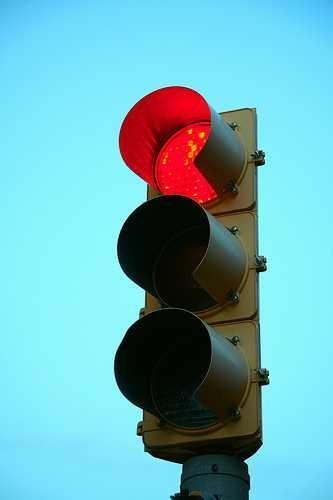red_light: (114, 84, 268, 458)
